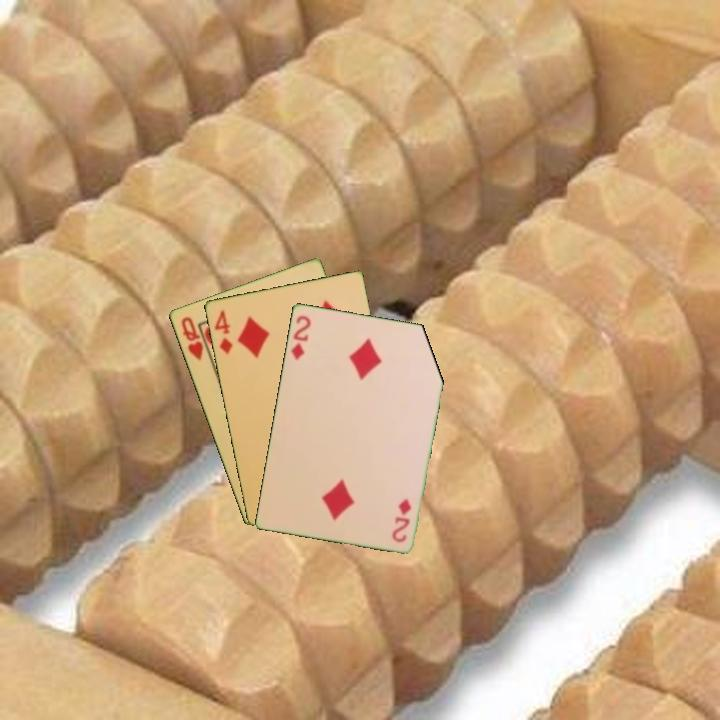2d: (287, 312, 313, 363), (389, 494, 414, 545)
4d: (210, 306, 235, 357)
Qh: (177, 313, 206, 363)
